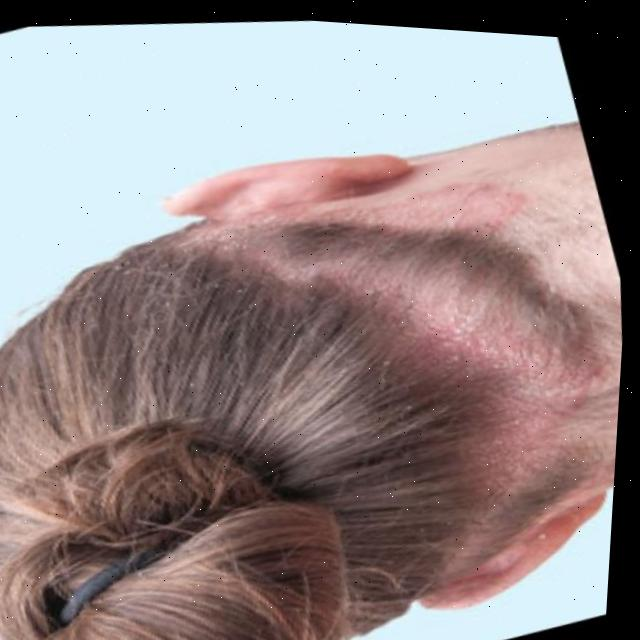Eczema: (191, 172, 592, 588)
